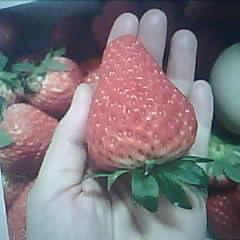straw-ripe: (86, 35, 197, 170)
